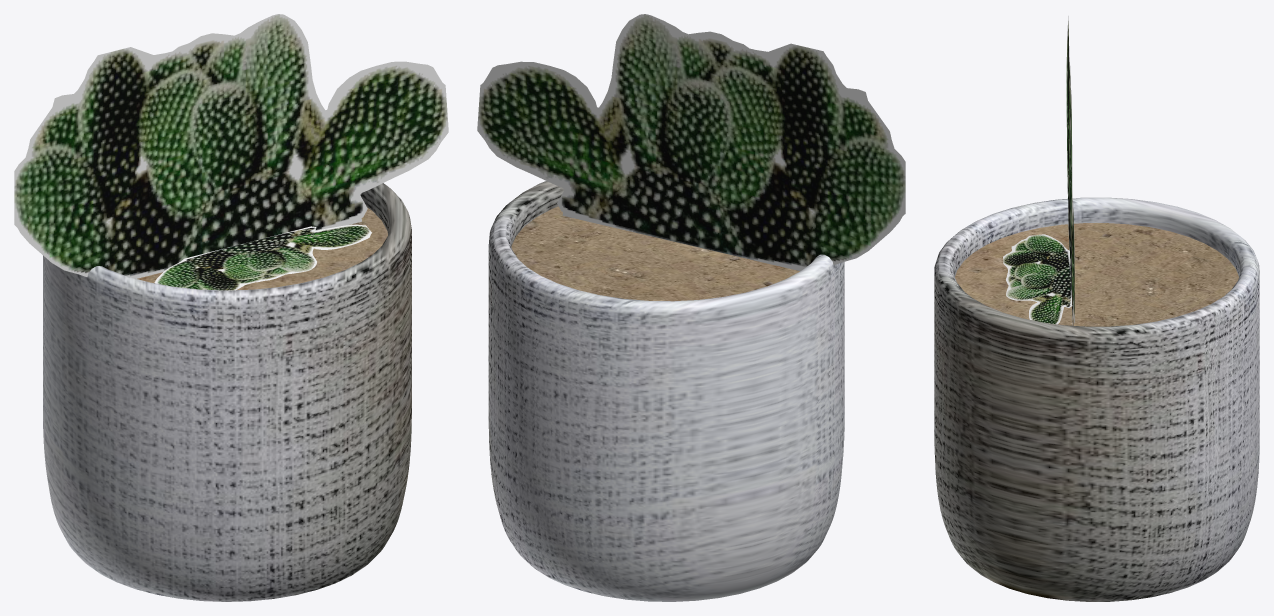
File: cactus.glb
The picture shows the model from 3 angles, left to right: view 1: azimuth 30°, elevation 25°; view 2: azimuth 150°, elevation 25°; view 3: azimuth 270°, elevation 25°; orthographic projection. The views are drawn at different scales.
Parts seen in each view (by area): view 1: cactus; view 2: cactus; view 3: cactus.
Part boxes in pixels (x1,y1,x2,y2): cactus: (14, 14, 448, 601); cactus: (477, 14, 905, 601); cactus: (934, 16, 1259, 601).
Bounding box in the file's own units: 14.06 × 16.17 × 10.21.
3 materials, 3 textured.
